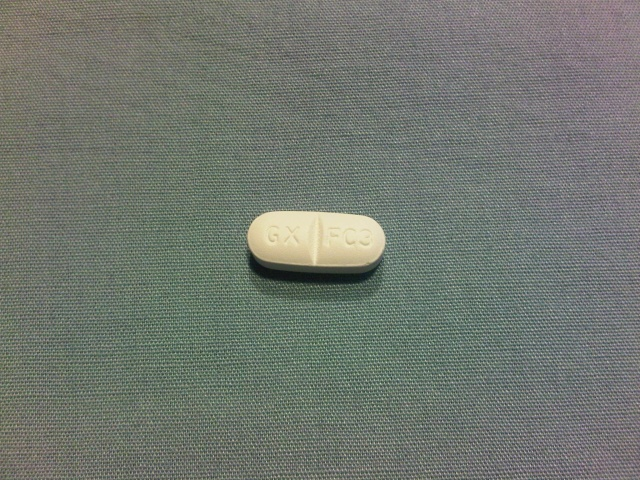3: (360, 225, 374, 249)
C: (342, 225, 359, 248)
F: (325, 224, 342, 248)
G: (265, 220, 282, 246)
X: (281, 221, 303, 247)
|: (309, 209, 322, 270)
